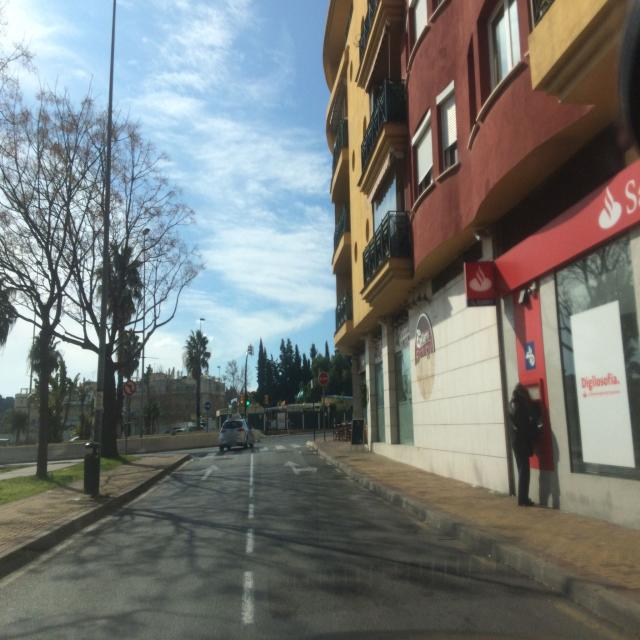car: (218, 419, 254, 451)
